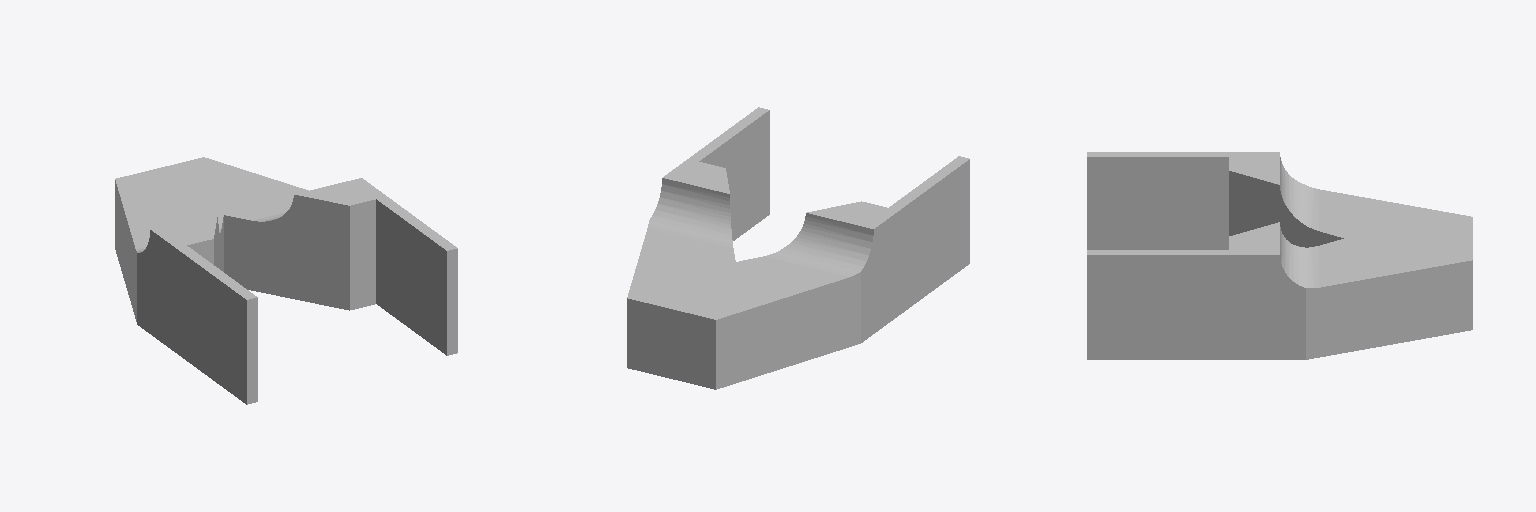
The model's file is finger.obj.
3 views of the same model, side by side, from view 1: azimuth 30°, elevation 25°; view 2: azimuth 150°, elevation 25°; view 3: azimuth 270°, elevation 25° (orthographic).
Parts seen in each view (by area): view 1: finger; view 2: finger; view 3: finger.
Boxes of the visible parts, x1,y1,x2,y2 form: finger: [115, 157, 457, 404]; finger: [627, 107, 969, 389]; finger: [1087, 152, 1472, 359].
Size of the model in its own units: 95 by 45 by 150.